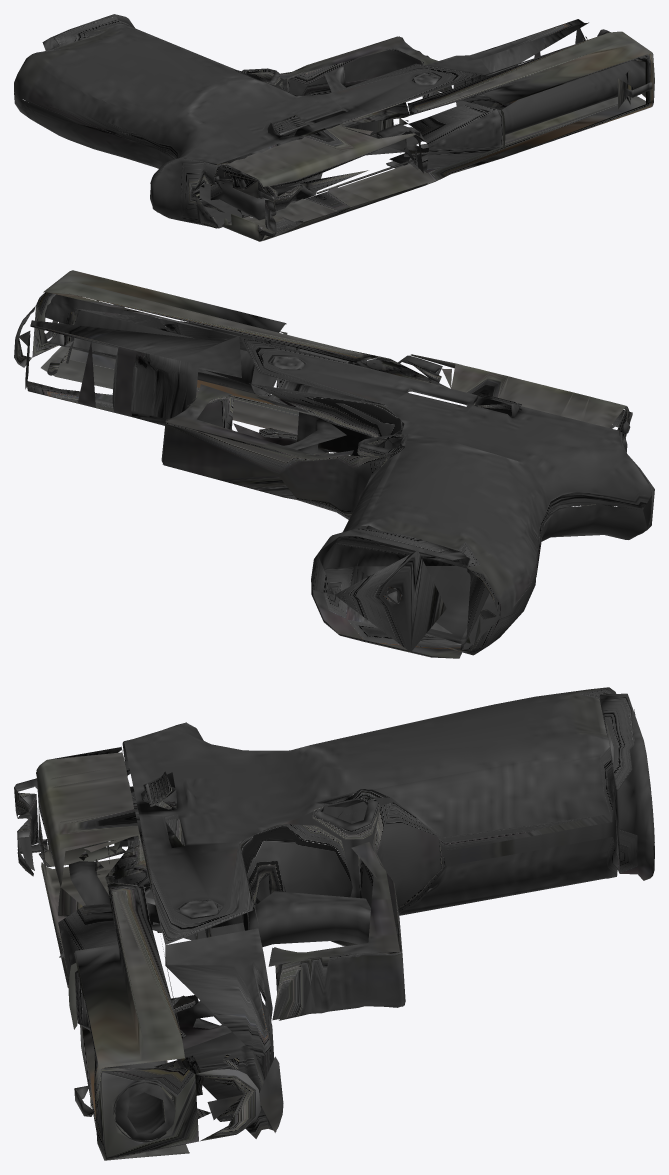
3 views of the same model, one above another, from view 1: azimuth 30°, elevation 25°; view 2: azimuth 150°, elevation 25°; view 3: azimuth 270°, elevation 25° (orthographic). The views are drawn at different scales.
Visible parts, largest first — view 1: w_p228; view 2: w_p228; view 3: w_p228.
Boxes of the visible parts, left/top/right/bottom form: w_p228: left=14, top=14, right=654, bottom=241; w_p228: left=14, top=270, right=654, bottom=658; w_p228: left=14, top=687, right=654, bottom=1160.
Size of the model in its own units: 0.3532 by 0.0668 by 0.2407.
Materials: 1 (1 with a texture image).
